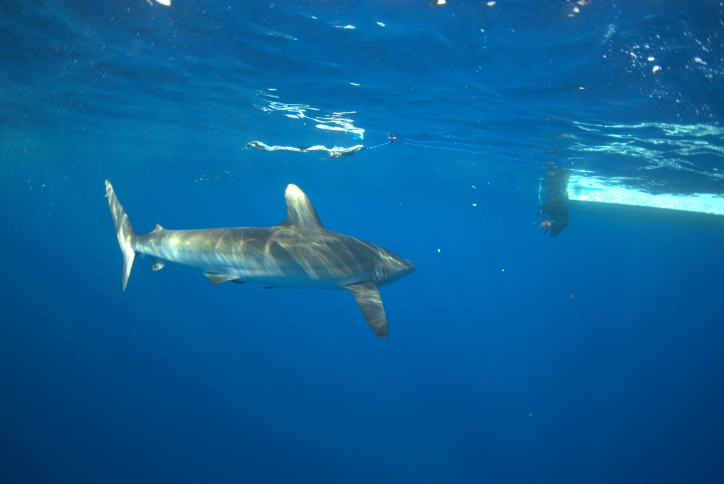Sedoso: (63, 170, 423, 341)
